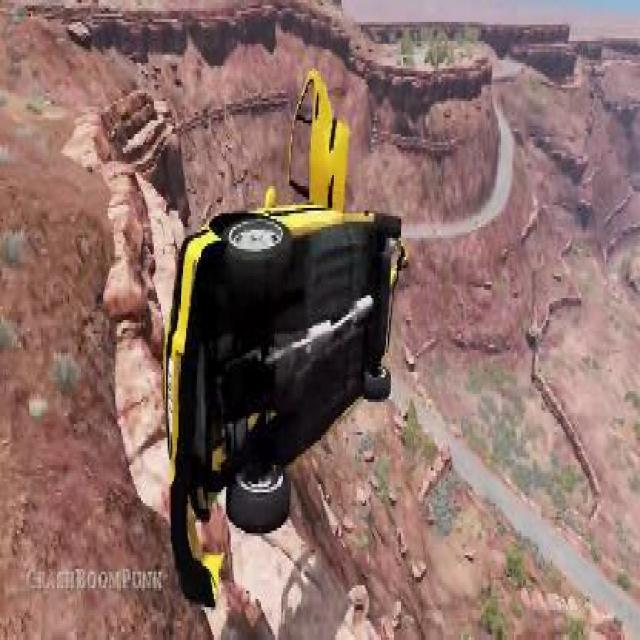accident: (158, 115, 410, 530)
